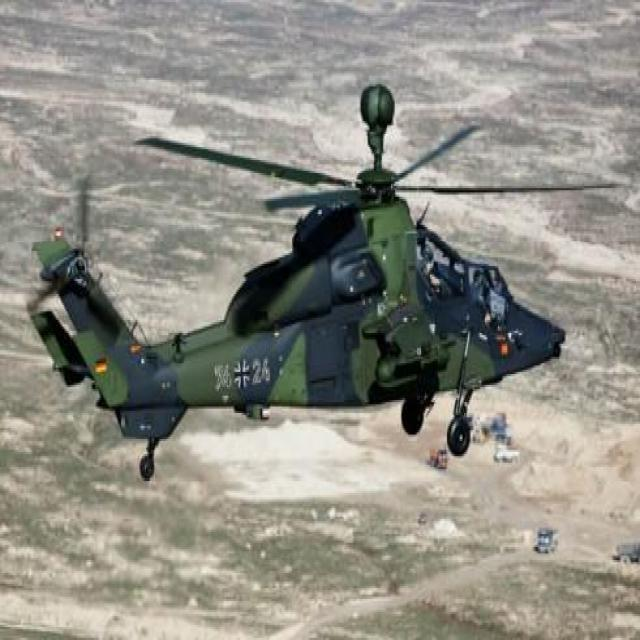MIL_HELO: (28, 64, 630, 492)
